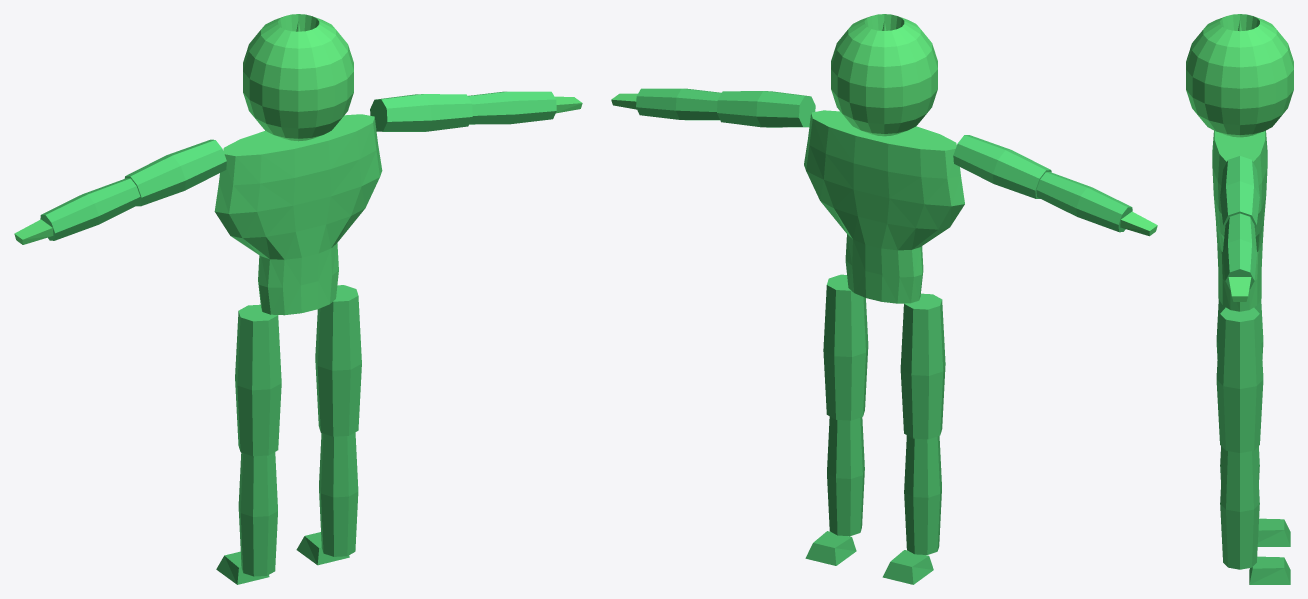
3 renders of one model, left to right at view 1: azimuth 30°, elevation 25°; view 2: azimuth 150°, elevation 25°; view 3: azimuth 270°, elevation 25°, orthographic. The views are drawn at different scales.
Parts seen in each view (by area): view 1: Torso, Head, Leg_L_Upper, Leg_R_Upper, Leg_L_Lower, Leg_R_Lower, Arm_L_Upper, Arm_R_Upper, Arm_L_Lower, Arm_R_Lower, Foot_R, Foot_L; view 2: Torso, Head, Leg_L_Upper, Leg_R_Upper, Leg_R_Lower, Leg_L_Lower, Arm_L_Upper, Arm_R_Upper, Arm_L_Lower, Arm_R_Lower, Foot_R, Foot_L; view 3: Head, Leg_R_Upper, Leg_R_Lower, Torso, Arm_R_Upper, Arm_R_Lower, Foot_R, Foot_L, Hand_R, Leg_L_Upper.
Boxes of the visible parts, left/top/right/bottom form: Torso: left=214, top=114, right=382, bottom=315; Head: left=243, top=14, right=353, bottom=141; Leg_L_Upper: left=235, top=304, right=281, bottom=456; Leg_R_Upper: left=315, top=285, right=361, bottom=436; Leg_L_Lower: left=238, top=452, right=277, bottom=576; Leg_R_Lower: left=319, top=432, right=358, bottom=556; Arm_L_Upper: left=124, top=139, right=226, bottom=206; Arm_R_Upper: left=370, top=94, right=472, bottom=131; Arm_L_Lower: left=40, top=178, right=140, bottom=240; Arm_R_Lower: left=468, top=91, right=556, bottom=124; Foot_R: left=296, top=532, right=349, bottom=565; Foot_L: left=216, top=551, right=269, bottom=584; Torso: left=804, top=110, right=964, bottom=303; Head: left=831, top=14, right=937, bottom=136; Leg_L_Upper: left=900, top=293, right=945, bottom=439; Leg_R_Upper: left=823, top=274, right=868, bottom=420; Leg_R_Lower: left=827, top=416, right=864, bottom=536; Leg_L_Lower: left=904, top=435, right=941, bottom=554; Arm_L_Upper: left=953, top=135, right=1051, bottom=198; Arm_R_Upper: left=717, top=91, right=815, bottom=127; Arm_L_Lower: left=1036, top=172, right=1132, bottom=232; Arm_R_Lower: left=636, top=88, right=721, bottom=120; Foot_R: left=805, top=531, right=856, bottom=565; Foot_L: left=882, top=550, right=933, bottom=584; Head: left=1186, top=14, right=1293, bottom=137; Leg_R_Upper: left=1216, top=307, right=1263, bottom=452; Leg_R_Lower: left=1220, top=448, right=1259, bottom=569; Torso: left=1212, top=130, right=1267, bottom=311; Arm_R_Upper: left=1220, top=156, right=1259, bottom=228; Arm_R_Lower: left=1223, top=213, right=1256, bottom=289; Foot_R: left=1249, top=556, right=1290, bottom=584; Foot_L: left=1257, top=518, right=1290, bottom=546; Hand_R: left=1228, top=277, right=1251, bottom=301; Leg_L_Upper: left=1216, top=299, right=1263, bottom=359.
Bounding box in the file's own units: 1.56 × 1.48 × 0.2686.
